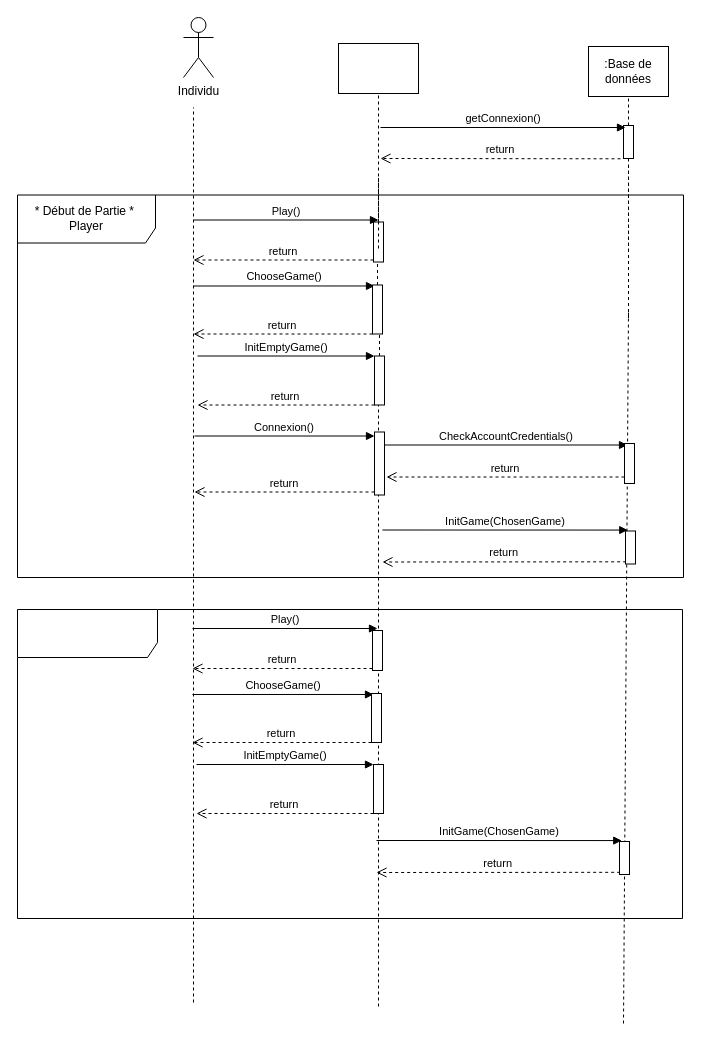
Image size: 701x1042. Some labels were removed from this diagram. Here are the shapes that lost their labels. From the top down, the centre of each, then its label:
the point at 378,68: :Systeme
the point at 349,763: * Début de Partie * Guest
